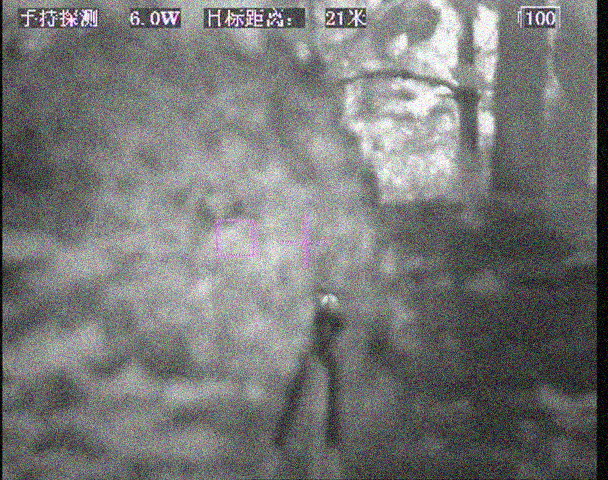my: (319, 291, 340, 313)
